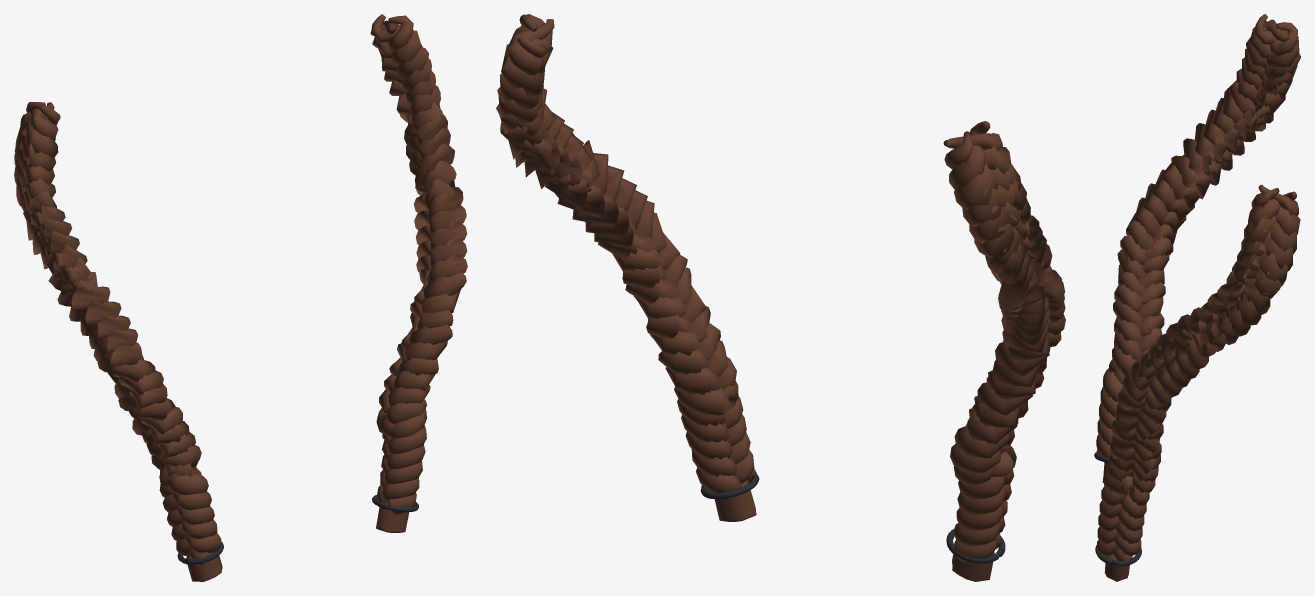
File: Feminine-twin-braids-tank-pashmina-lengths251.glb
The picture shows the model from 3 angles, left to right: view 1: azimuth 30°, elevation 25°; view 2: azimuth 150°, elevation 25°; view 3: azimuth 270°, elevation 25°; orthographic projection. The views are drawn at different scales.
Parts seen in each view (by area): view 1: 226 hairLengths / Hair / chestnut226, 226 hairLengths / Hair / ties226; view 2: 226 hairLengths / Hair / chestnut226, 226 hairLengths / Hair / ties226; view 3: 226 hairLengths / Hair / chestnut226, 226 hairLengths / Hair / ties226.
Boxes of the visible parts, bbox=[...] form: 226 hairLengths / Hair / chestnut226: bbox=[14, 14, 467, 581]; 226 hairLengths / Hair / ties226: bbox=[177, 495, 418, 564]; 226 hairLengths / Hair / chestnut226: bbox=[496, 14, 1065, 581]; 226 hairLengths / Hair / ties226: bbox=[700, 474, 1005, 563]; 226 hairLengths / Hair / chestnut226: bbox=[1096, 14, 1300, 581]; 226 hairLengths / Hair / ties226: bbox=[1094, 452, 1141, 566].
Bounding box in the file's own units: 1.03 × 1.06 × 0.4591.
